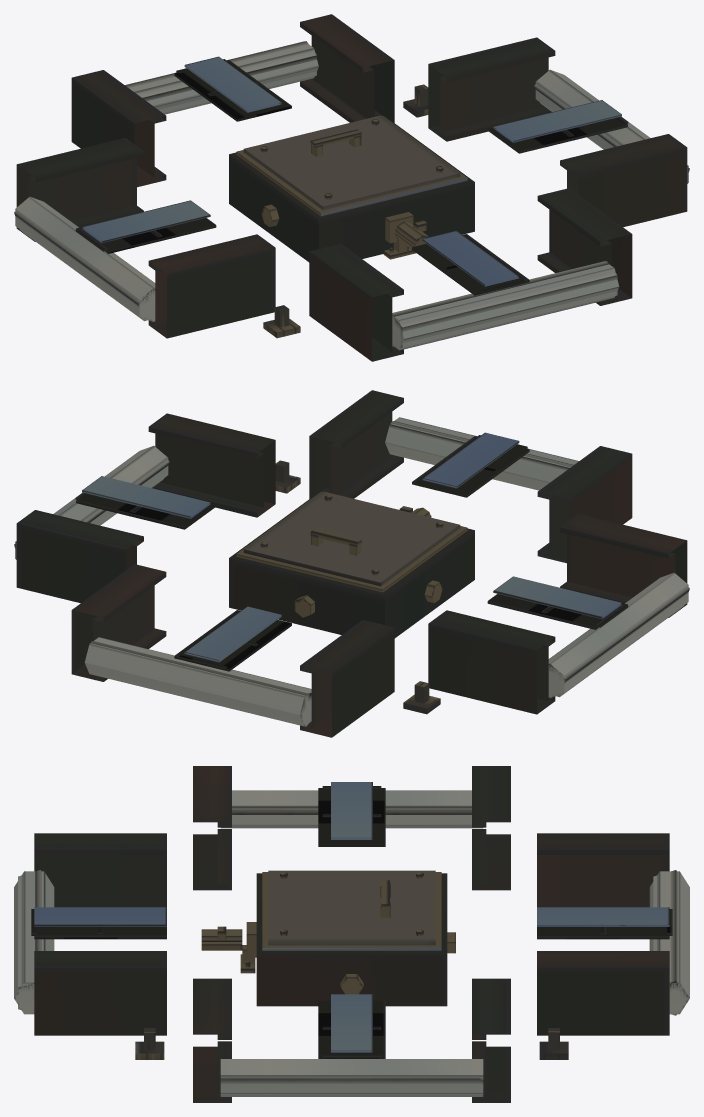
File: place_works_conduit_lane_junction.glb
3 renders of one model, top to bottom at view 1: azimuth 30°, elevation 25°; view 2: azimuth 150°, elevation 25°; view 3: azimuth 270°, elevation 25°, orthographic. The views are drawn at different scales.
Parts seen in each view (by area): view 1: LOD0_Merged_Material_Atlas, LOD0_service_lid, LOD1_Merged_Material_Atlas, LOD0_flow_mesh; view 2: LOD0_Merged_Material_Atlas, LOD0_service_lid, LOD0_flow_mesh, LOD1_Merged_Material_Atlas; view 3: LOD0_Merged_Material_Atlas, LOD0_service_lid, LOD0_flow_mesh, LOD1_Merged_Material_Atlas.
Part boxes in pixels (x1,y1,x2,y2): LOD0_Merged_Material_Atlas: [15, 14, 688, 361]; LOD0_service_lid: [243, 115, 460, 210]; LOD1_Merged_Material_Atlas: [14, 41, 689, 347]; LOD0_flow_mesh: [75, 59, 628, 295]; LOD0_Merged_Material_Atlas: [15, 390, 688, 737]; LOD0_service_lid: [243, 491, 460, 586]; LOD0_flow_mesh: [75, 435, 628, 671]; LOD1_Merged_Material_Atlas: [14, 421, 689, 726]; LOD0_Merged_Material_Atlas: [14, 766, 689, 1102]; LOD0_service_lid: [268, 870, 435, 945]; LOD0_flow_mesh: [31, 786, 672, 1058]; LOD1_Merged_Material_Atlas: [18, 809, 689, 1096].
Bounding box in the file's own units: 2.33 × 0.291 × 2.34.
1 material, 1 textured.
